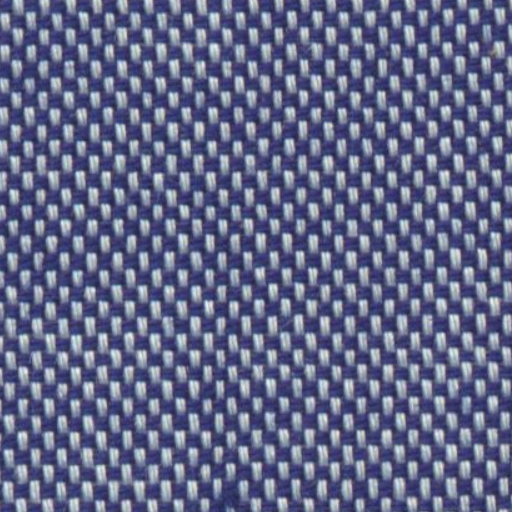MianQiu: (206, 470, 257, 510)
